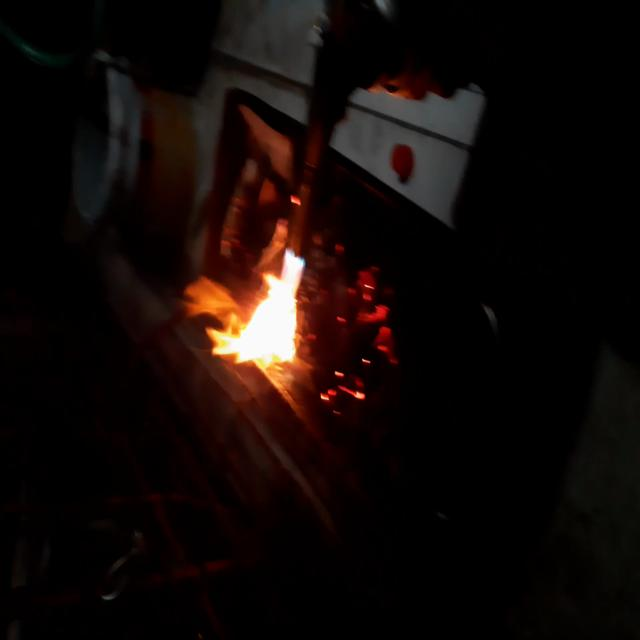Fire: (199, 208, 310, 372), (315, 235, 404, 427)
